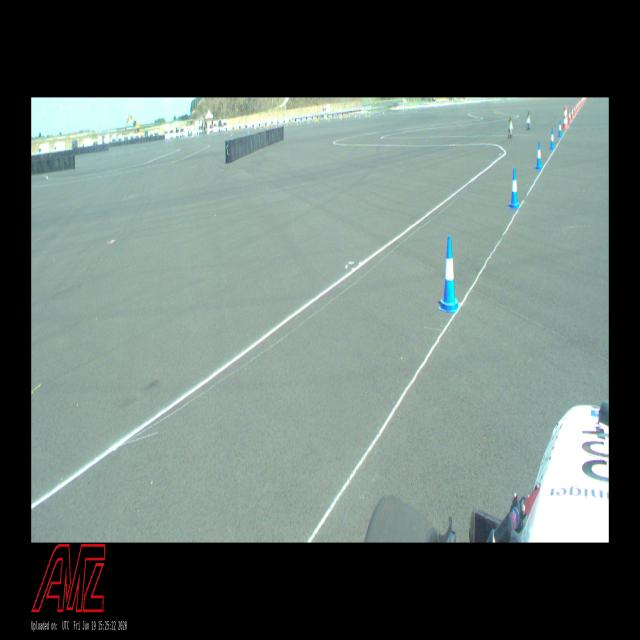blue_cone: (438, 235, 460, 312), (509, 168, 519, 208), (536, 142, 542, 169), (550, 128, 555, 150), (558, 120, 562, 137), (566, 115, 568, 128)
large_orange_cone: (563, 106, 567, 129), (566, 105, 568, 126)
orange_cone: (569, 110, 571, 122), (572, 107, 574, 118), (574, 105, 576, 115)
